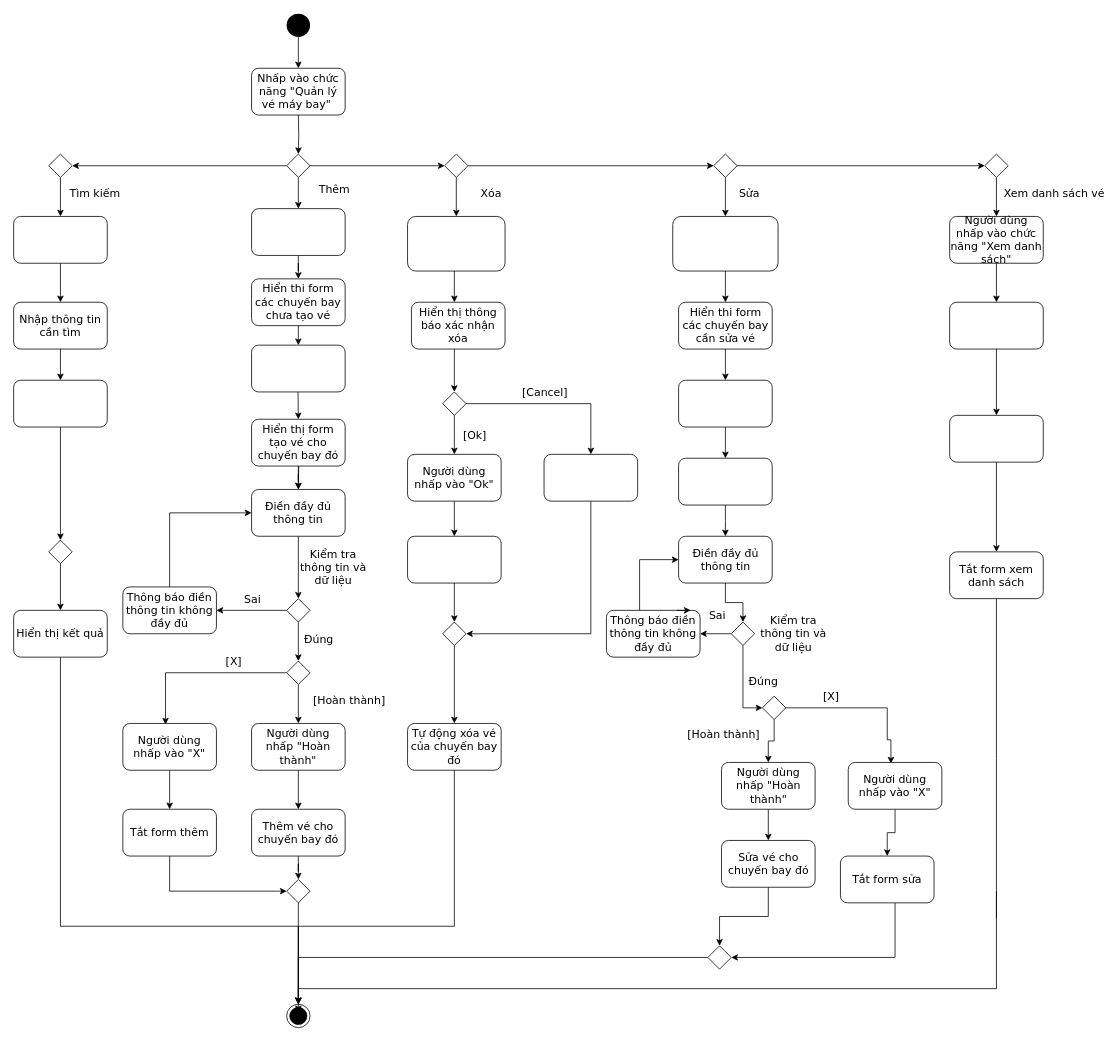
This 1118x1041 diagram has some shape labels left out. Each missing label, with the box of its shape:
Chọn kiểu tìm kiếm: (13, 216, 107, 263)
Hiển thị form sửa vé cho chuyến bay đó: (678, 457, 772, 505)
Hiển thị form xem danh sách vé: (949, 301, 1043, 349)
Người dùng chọn chuyến bay cần sửa vé: (678, 379, 772, 427)
Người dùng chọn chuyến bay cần tạo vé: (251, 344, 345, 392)
Người dùng chọn chuyến bay cần xóa: (407, 216, 505, 271)
Người dùng nhấp vào nút "Sửa vé": (672, 216, 778, 271)
Người dùng nhấp vào nút "Tạo vé": (251, 208, 345, 255)
Nhấn nút "Tìm kiếm": (13, 379, 107, 427)
Nhấn nút "X": (949, 415, 1043, 462)
Tắt thông báo xác nhận xóa: (543, 454, 638, 501)
Xóa chuyến bay: (407, 535, 501, 583)
